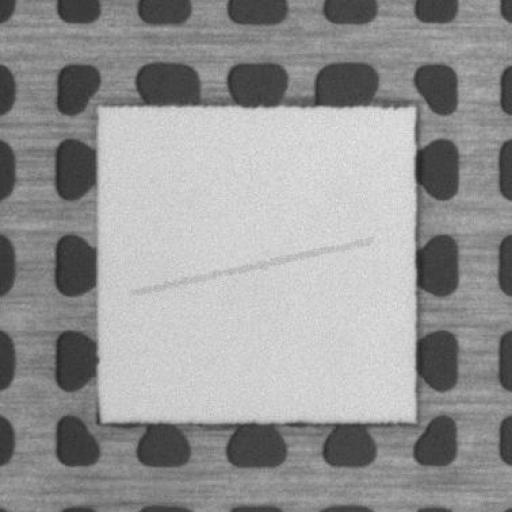DIE_CRACK: (131, 240, 370, 292)
